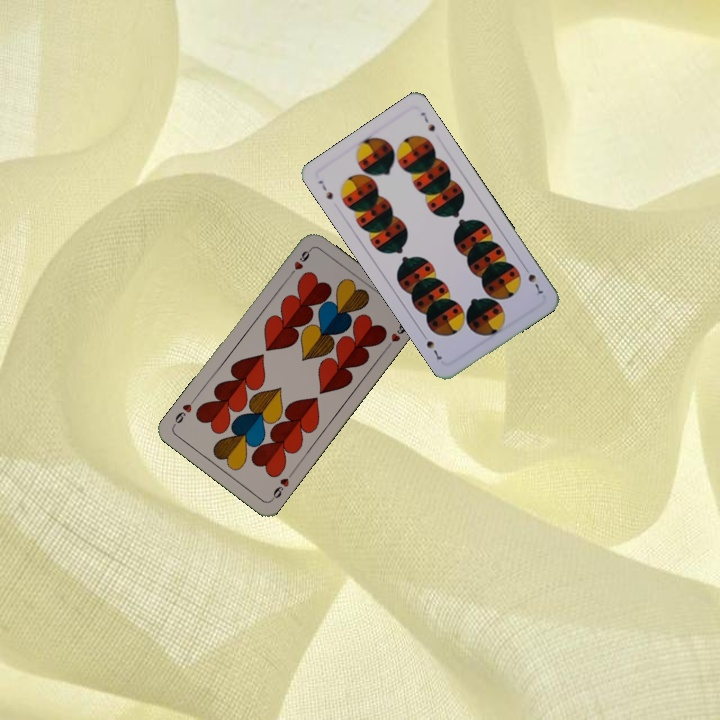H9: (267, 468, 296, 503), (285, 245, 314, 280)
S7: (519, 262, 546, 297), (314, 176, 336, 202)
